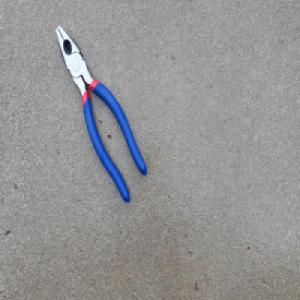Pliers: (54, 22, 147, 204)
